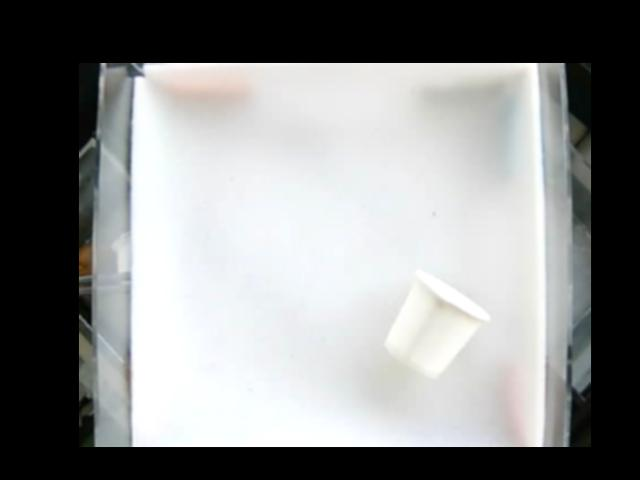Cup: (382, 269, 490, 378)
